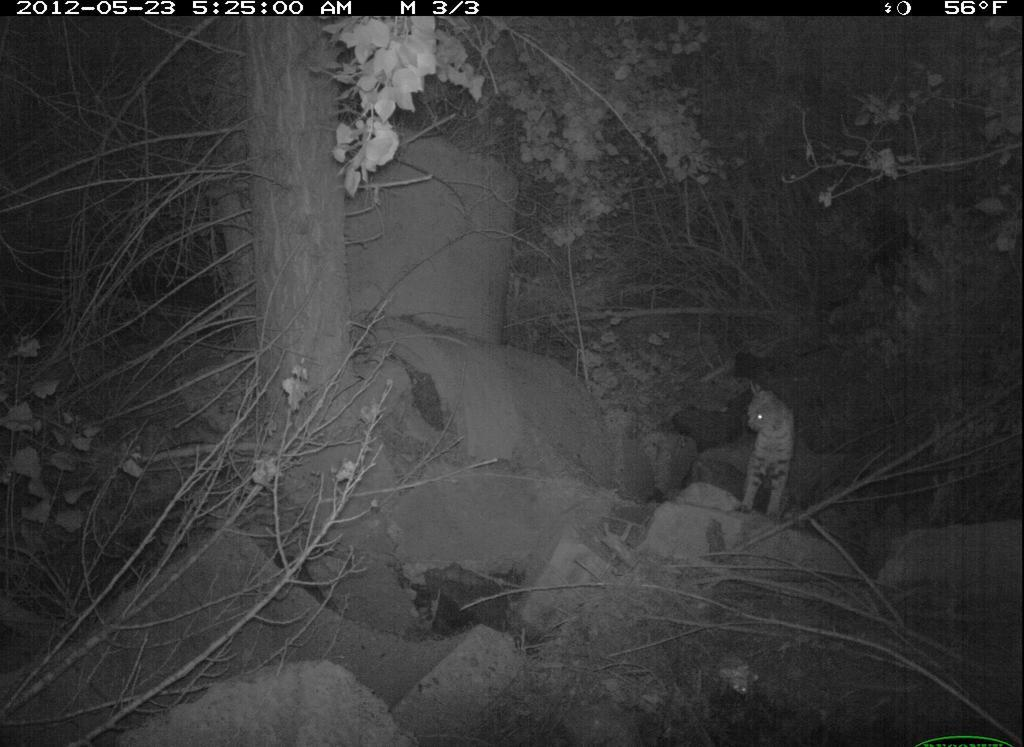bobcat: (715, 361, 806, 533)
